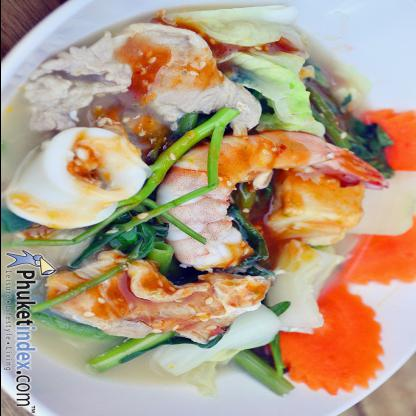Suki: (5, 5, 403, 403)
